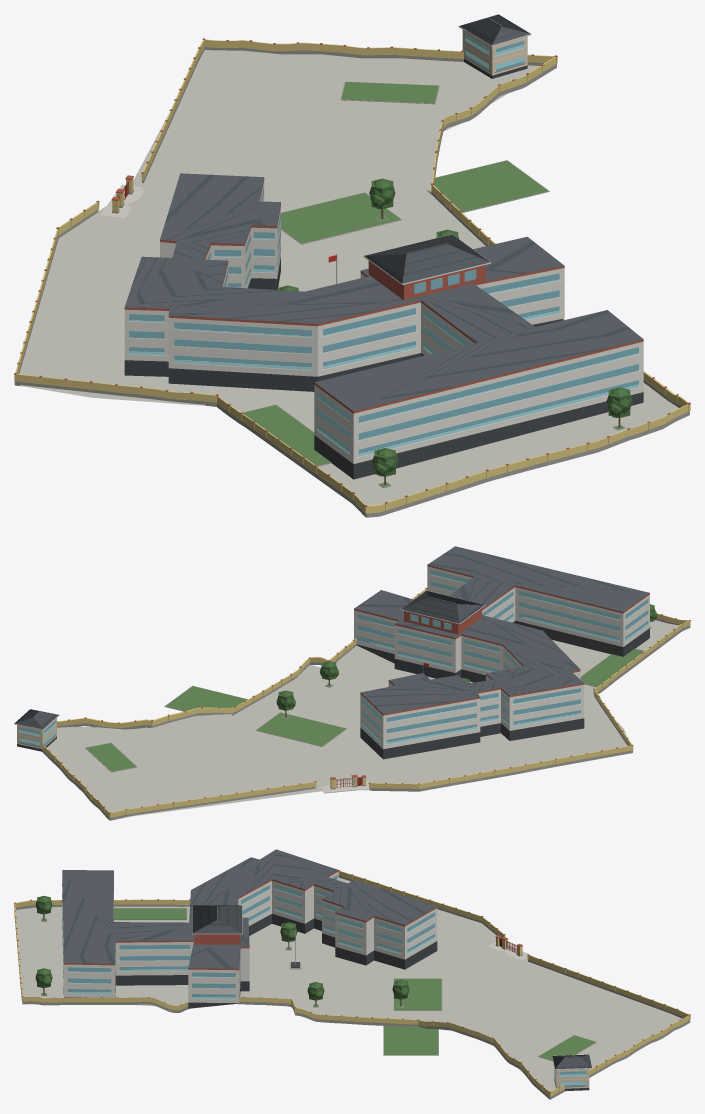
The model's file is chenshan_primary.glb.
The picture shows the model from 3 angles, top to bottom: view 1: azimuth 30°, elevation 25°; view 2: azimuth 150°, elevation 25°; view 3: azimuth 270°, elevation 25°; orthographic projection. The views are drawn at different scales.
Parts seen in each view (by area): view 1: lod0_atlas, lod0_lit, lod1_atlas; view 2: lod0_atlas, lod0_lit, lod1_atlas; view 3: lod0_atlas, lod1_atlas, lod0_lit.
Part boxes in pixels (x1=…): lod0_atlas: x1=14, y1=14, x2=690, y2=517; lod0_lit: x1=129, y1=34, x2=638, y2=456; lod1_atlas: x1=15, y1=39, x2=688, y2=513; lod0_atlas: x1=14, y1=546, x2=690, y2=820; lod0_lit: x1=19, y1=570, x2=648, y2=746; lod1_atlas: x1=43, y1=589, x2=689, y2=817; lod0_atlas: x1=14, y1=849, x2=690, y2=1099; lod1_atlas: x1=14, y1=871, x2=689, y2=1096; lod0_lit: x1=62, y1=875, x2=586, y2=1086.
Size of what is drawn, in the model's own units: 163 by 22.23 by 199.
2 materials, 2 textured.
